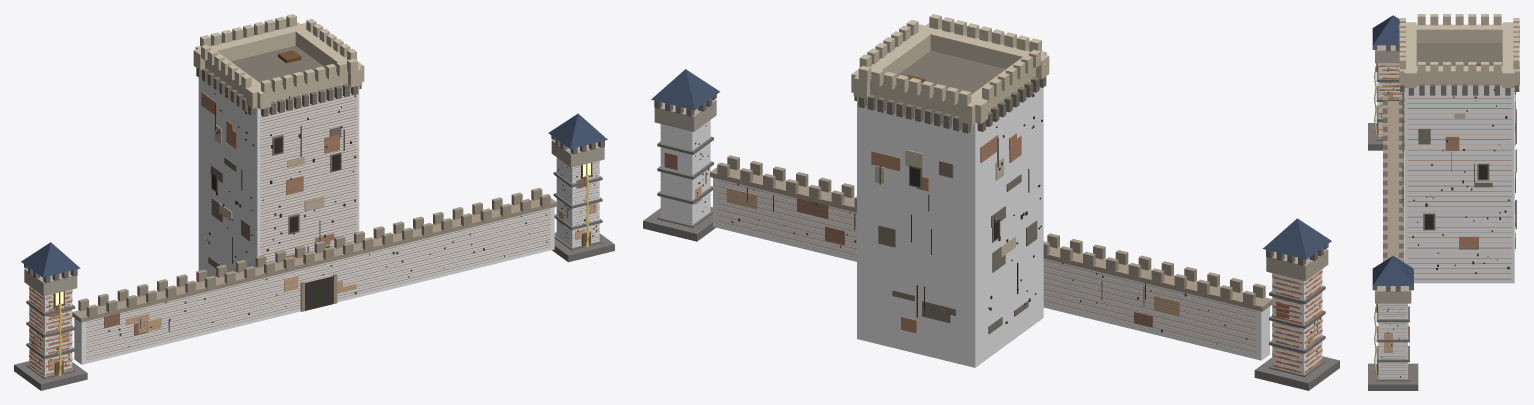
File: Rapunzel4.glb
The picture shows the model from 3 angles, left to right: view 1: azimuth 30°, elevation 25°; view 2: azimuth 150°, elevation 25°; view 3: azimuth 270°, elevation 25°; orthographic projection. The views are drawn at different scales.
Parts seen in each view (by area): view 1: MTEC_Keep_Body_Part_03_Destructible, MTEC_Keep_Body_Part_04_Destructible, MTEC_Keep_Body_Part_05_Destructible, MTEC_Keep_Body_Part_02_Destructible, MTEC_Wall_Part_02_Destructible, MTEC_Wall_Part_04_Destructible, MTEC_Wall_Part_05_Destructible, MTEC_Wall_Top_Dark_Mortar_Band, MTEC_Wall_Part_01_Destructible, MTEC_Wall_Part_03_Destructible, MTEC_Keep_Back_Parapet_Wall, MTEC_Keep_Open_Flat_Roof_Floor (+26 smaller); view 2: MTEC_Keep_Body_Part_01_Destructible, MTEC_Keep_Body_Part_02_Destructible, MTEC_Keep_Body_Part_03_Destructible, MTEC_Keep_Body_Part_04_Destructible, MTEC_Keep_Body_Part_05_Destructible, MTEC_Wall_Part_01_Destructible, MTEC_Wall_Part_02_Destructible, MTEC_Wall_Part_05_Destructible, MTEC_Wall_Top_Dark_Mortar_Band, MTEC_Keep_Front_Parapet_Wall, MTEC_Keep_Open_Flat_Roof_Floor, MTEC_Keep_Right_Parapet_Wall (+16 smaller); view 3: MTEC_Keep_Body_Part_03_Destructible, MTEC_Keep_Body_Part_01_Destructible, MTEC_Keep_Body_Part_02_Destructible, MTEC_Keep_Body_Part_04_Destructible, MTEC_Keep_Body_Part_05_Destructible, MTEC_Wall_Top_Dark_Mortar_Band, MTEC_Keep_Open_Flat_Roof_Floor, MTEC_Keep_Left_Parapet_Wall, MTEC_Keep_Right_Parapet_Wall, MTEC_Tower_Right_Very_Pointed_Pyramid_Roof, MTEC_Tower_Right_Square_Stone_Platform, MTEC_Keep_Back_Parapet_Wall (+27 smaller).
Boxes of the visible parts, x1=… form: MTEC_Keep_Body_Part_03_Destructible: x1=198, y1=149, x2=359, y2=234; MTEC_Keep_Body_Part_04_Destructible: x1=198, y1=107, x2=359, y2=191; MTEC_Keep_Body_Part_05_Destructible: x1=198, y1=72, x2=359, y2=149; MTEC_Keep_Body_Part_02_Destructible: x1=198, y1=192, x2=359, y2=267; MTEC_Wall_Part_02_Destructible: x1=176, y1=276, x2=270, y2=341; MTEC_Wall_Part_04_Destructible: x1=365, y1=230, x2=459, y2=295; MTEC_Wall_Part_05_Destructible: x1=460, y1=207, x2=554, y2=272; MTEC_Wall_Top_Dark_Mortar_Band: x1=72, y1=198, x2=557, y2=322; MTEC_Wall_Part_01_Destructible: x1=74, y1=299, x2=176, y2=364; MTEC_Wall_Part_03_Destructible: x1=271, y1=253, x2=365, y2=318; MTEC_Keep_Back_Parapet_Wall: x1=193, y1=23, x2=306, y2=70; MTEC_Keep_Open_Flat_Roof_Floor: x1=231, y1=45, x2=325, y2=83; MTEC_Keep_Body_Part_01_Destructible: x1=857, y1=269, x2=1043, y2=367; MTEC_Keep_Body_Part_02_Destructible: x1=857, y1=220, x2=1043, y2=318; MTEC_Keep_Body_Part_03_Destructible: x1=857, y1=171, x2=1043, y2=269; MTEC_Keep_Body_Part_04_Destructible: x1=857, y1=122, x2=1043, y2=220; MTEC_Keep_Body_Part_05_Destructible: x1=857, y1=82, x2=1043, y2=171; MTEC_Wall_Part_01_Destructible: x1=1151, y1=285, x2=1269, y2=360; MTEC_Wall_Part_02_Destructible: x1=1043, y1=258, x2=1151, y2=333; MTEC_Wall_Part_05_Destructible: x1=713, y1=178, x2=822, y2=253; MTEC_Wall_Top_Dark_Mortar_Band: x1=710, y1=167, x2=1272, y2=311; MTEC_Keep_Front_Parapet_Wall: x1=918, y1=24, x2=1049, y2=79; MTEC_Keep_Open_Flat_Roof_Floor: x1=896, y1=51, x2=1005, y2=94; MTEC_Keep_Right_Parapet_Wall: x1=853, y1=23, x2=930, y2=99; MTEC_Keep_Body_Part_03_Destructible: x1=1404, y1=164, x2=1514, y2=204; MTEC_Keep_Body_Part_01_Destructible: x1=1404, y1=244, x2=1514, y2=283; MTEC_Keep_Body_Part_02_Destructible: x1=1404, y1=204, x2=1514, y2=243; MTEC_Keep_Body_Part_04_Destructible: x1=1404, y1=125, x2=1514, y2=164; MTEC_Keep_Body_Part_05_Destructible: x1=1404, y1=85, x2=1514, y2=125; MTEC_Wall_Top_Dark_Mortar_Band: x1=1387, y1=101, x2=1398, y2=258; MTEC_Keep_Open_Flat_Roof_Floor: x1=1416, y1=43, x2=1502, y2=65; MTEC_Keep_Left_Parapet_Wall: x1=1399, y1=24, x2=1519, y2=43; MTEC_Keep_Right_Parapet_Wall: x1=1399, y1=66, x2=1519, y2=85; MTEC_Tower_Right_Very_Pointed_Pyramid_Roof: x1=1372, y1=256, x2=1413, y2=285; MTEC_Tower_Right_Square_Stone_Platform: x1=1368, y1=363, x2=1418, y2=390; MTEC_Keep_Back_Parapet_Wall: x1=1502, y1=22, x2=1514, y2=87.
Bounding box in the file's own units: 32.65 × 12.89 × 8.
